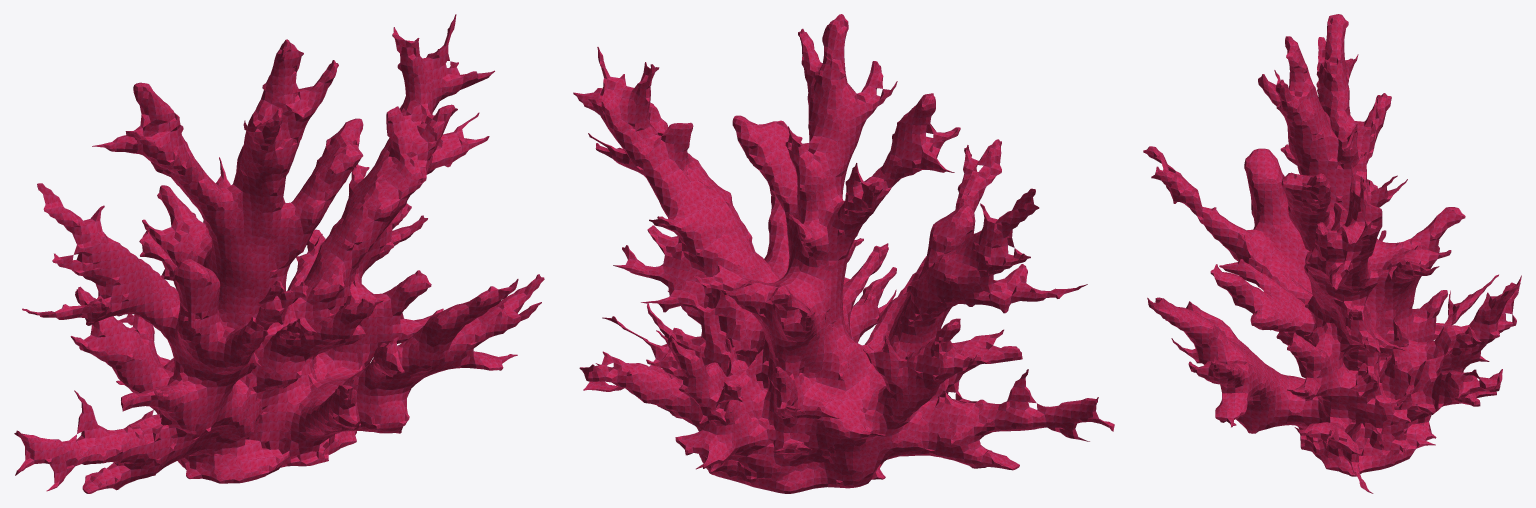
The model's file is my_mesh_coral.glb.
3 renders of one model, left to right at view 1: azimuth 30°, elevation 25°; view 2: azimuth 150°, elevation 25°; view 3: azimuth 270°, elevation 25°, orthographic. The views are drawn at different scales.
Visible parts, largest first — view 1: coral; view 2: coral; view 3: coral.
Boxes of the visible parts, box(x1,y1,x2,y2) form: coral: box(14, 14, 544, 493); coral: box(573, 14, 1114, 493); coral: box(1143, 14, 1521, 493).
Size of the model in its own units: 114 by 93.46 by 80.65.
1 material, 1 textured.
